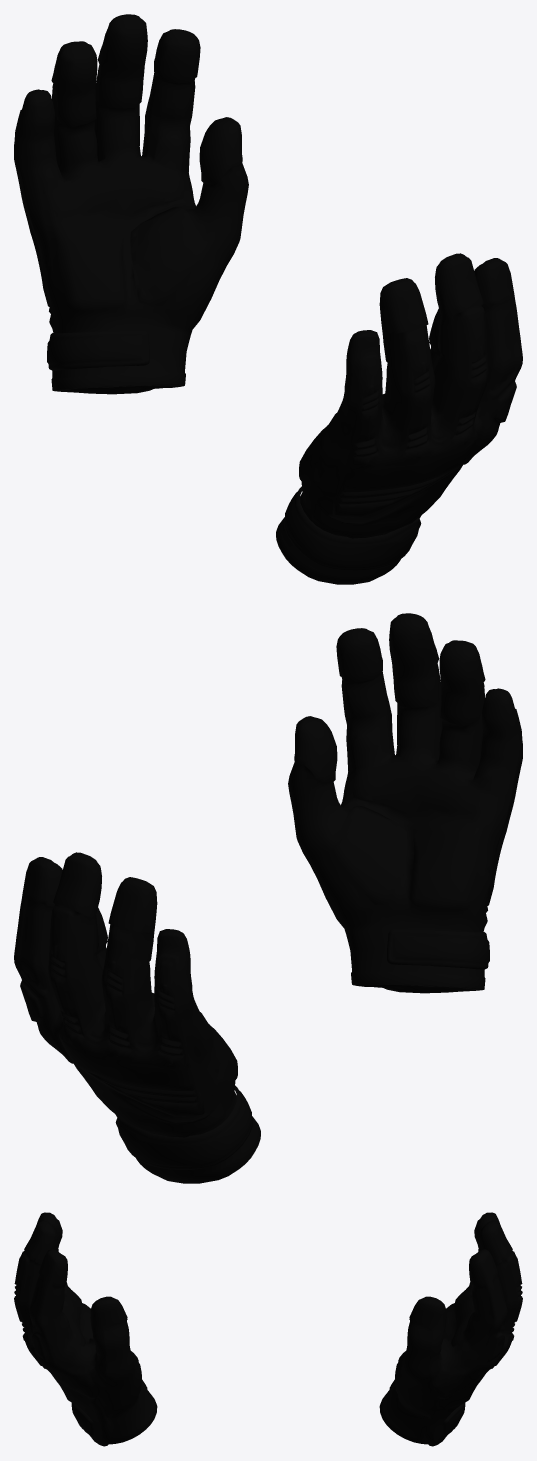
Rendered from specialist.glb.
3 views of the same model, one above another, from view 1: azimuth 30°, elevation 25°; view 2: azimuth 150°, elevation 25°; view 3: azimuth 270°, elevation 25° (orthographic). The views are drawn at different scales.
Visible parts, largest first — view 1: characters/models/shared/arms/glove_specialist/w_glove_spec; view 2: characters/models/shared/arms/glove_specialist/w_glove_spec; view 3: characters/models/shared/arms/glove_specialist/w_glove_spec.
Boxes of the visible parts, <box> form: characters/models/shared/arms/glove_specialist/w_glove_spec: <box>14,14,522,584</box>; characters/models/shared/arms/glove_specialist/w_glove_spec: <box>14,613,522,1183</box>; characters/models/shared/arms/glove_specialist/w_glove_spec: <box>14,1212,522,1446</box>.
Size of the model in its own units: 5.5 by 9.45 by 18.75.
2 materials, 2 textured.
